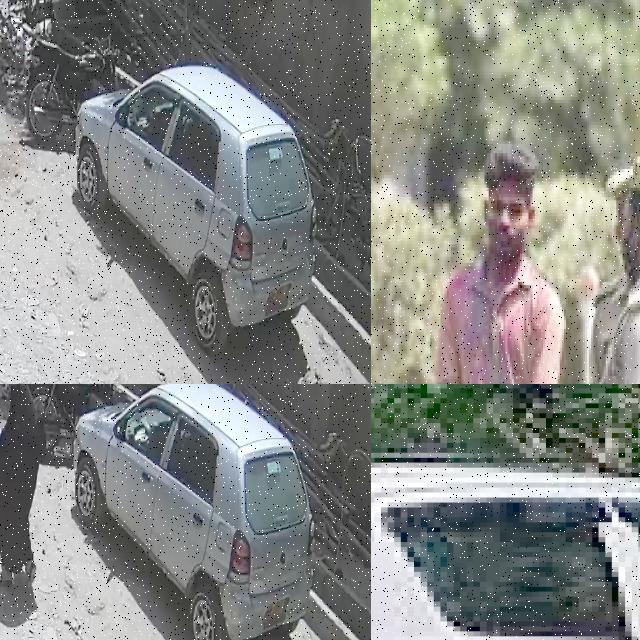bike: (315, 131, 371, 315), (26, 36, 119, 145), (29, 384, 117, 453)
car: (76, 66, 316, 357), (74, 384, 312, 640), (371, 448, 640, 640)
